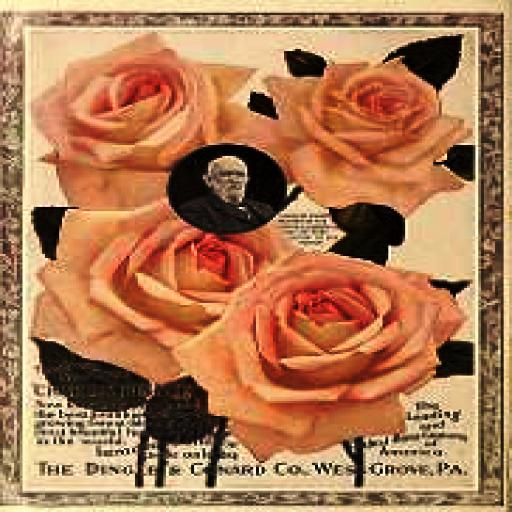rose: (172, 248, 467, 458), (36, 192, 292, 399), (34, 34, 278, 207), (262, 56, 470, 211)
